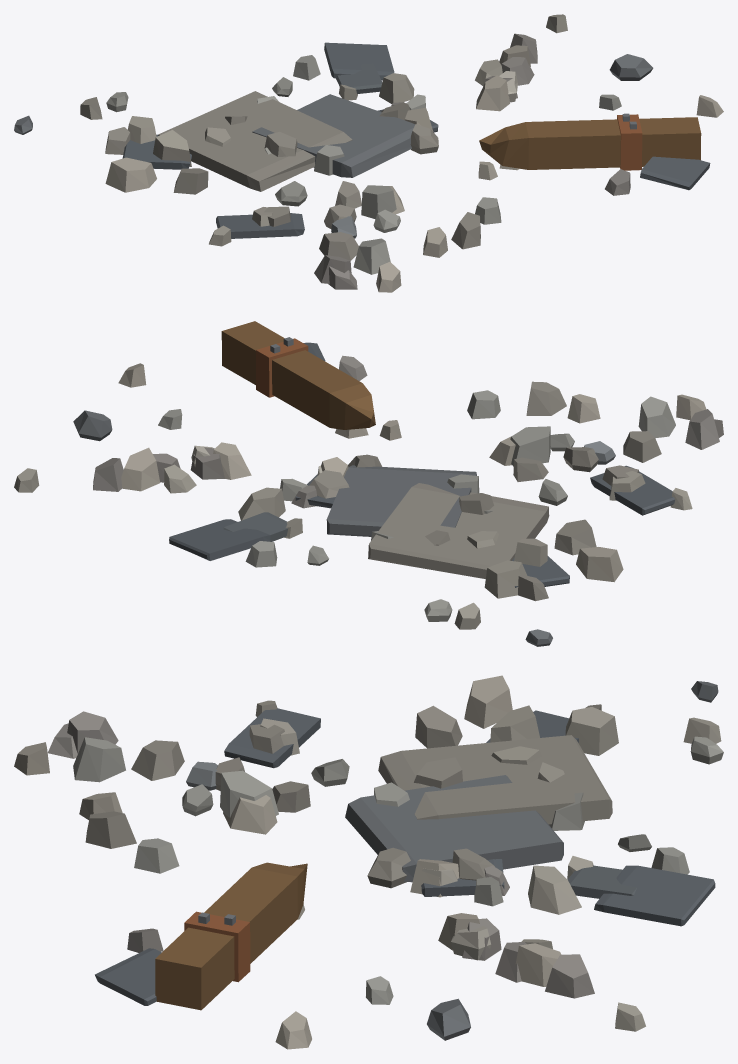
The model's file is SM_LPD_Struct_DebrisScatter_01.fbx.
The picture shows the model from 3 angles, top to bottom: view 1: azimuth 30°, elevation 25°; view 2: azimuth 150°, elevation 25°; view 3: azimuth 270°, elevation 25°; orthographic projection. The views are drawn at different scales.
Parts seen in each view (by area): view 1: SM_LPD_Struct_DebrisScatter_01; view 2: SM_LPD_Struct_DebrisScatter_01; view 3: SM_LPD_Struct_DebrisScatter_01.
Boxes of the visible parts, bbox=[...] form: SM_LPD_Struct_DebrisScatter_01: bbox=[14, 14, 723, 292]; SM_LPD_Struct_DebrisScatter_01: bbox=[14, 321, 723, 646]; SM_LPD_Struct_DebrisScatter_01: bbox=[14, 675, 723, 1049].
Size of the model in its own units: 2.53 by 0.1837 by 2.1.
